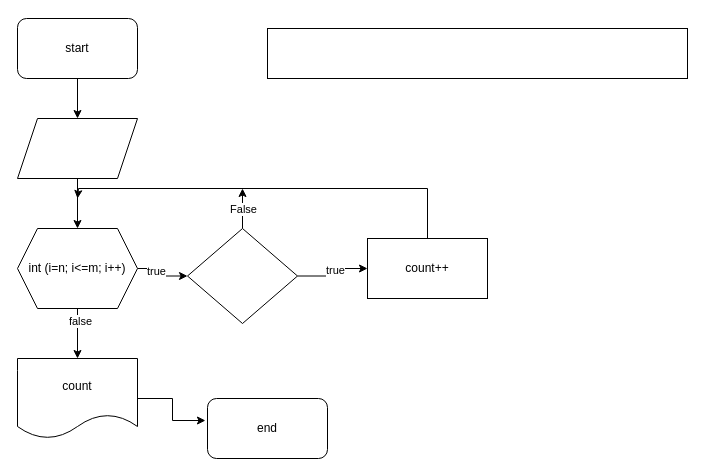
Image size: 705x476. Some labels were removed from this diagram. Here are the shapes that lost their labels. From the top down, the box of each, then its label:
(266, 28, 688, 78): 1.Verilmiş n və m (n<m) ədədləri arasında neçə tək ədəd olduğunu tapın.
(16, 118, 138, 178): n,m, count=0
(186, 228, 298, 324): i%2==1
